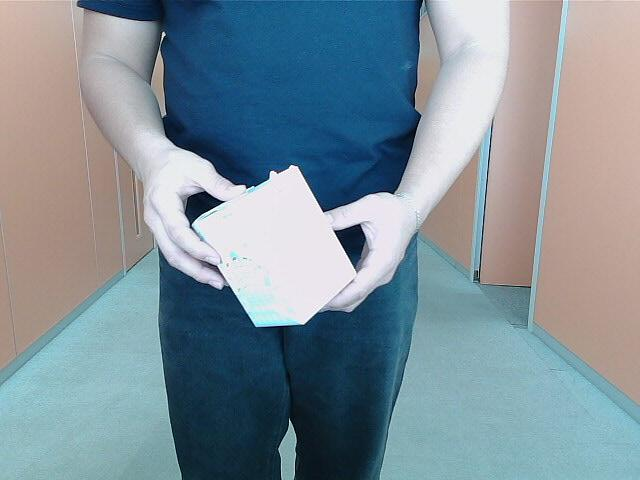Blind_box: (187, 161, 360, 340)
